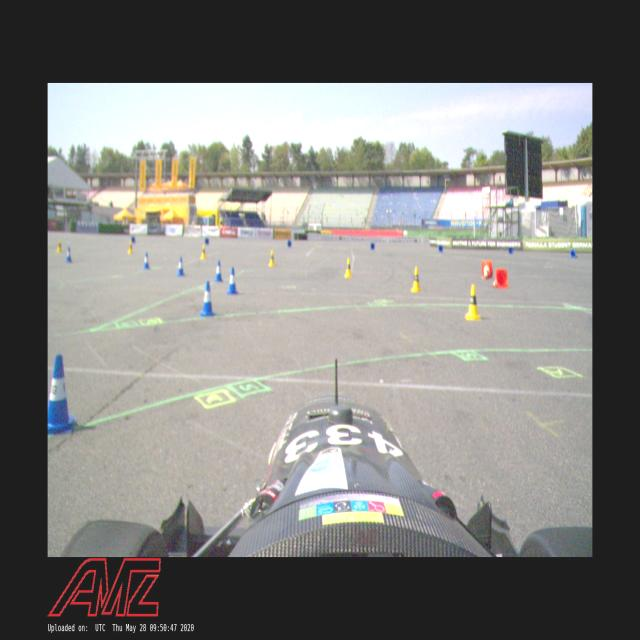blue_cone: (48, 352, 76, 434), (199, 280, 215, 318), (226, 268, 238, 296), (214, 260, 223, 282), (176, 256, 184, 276), (64, 246, 72, 264), (142, 252, 150, 270), (570, 248, 578, 258)
orange_cone: (492, 268, 508, 290), (482, 260, 494, 280)
yellow_cone: (464, 284, 482, 322), (410, 266, 422, 294), (344, 258, 353, 278), (268, 248, 276, 268), (200, 244, 207, 260), (56, 237, 62, 253), (128, 239, 134, 255)
